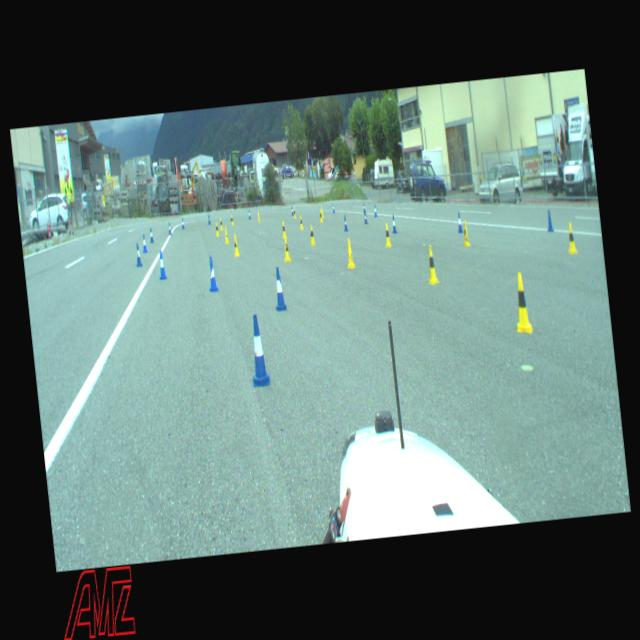blue_cone: (246, 314, 269, 384), (272, 266, 286, 310), (206, 256, 218, 292), (158, 250, 166, 278), (134, 242, 142, 266), (545, 208, 553, 231), (456, 212, 463, 232), (141, 234, 147, 252), (391, 215, 397, 232), (342, 214, 348, 230), (148, 227, 154, 242), (362, 210, 368, 223), (362, 200, 366, 213), (373, 204, 377, 216), (168, 222, 172, 234), (180, 218, 184, 228), (290, 206, 294, 216), (248, 210, 250, 220), (208, 214, 210, 224), (332, 202, 334, 212)
yellow_cone: (511, 272, 532, 332), (426, 244, 438, 284), (565, 222, 576, 254), (344, 238, 354, 268), (461, 220, 470, 246), (383, 222, 391, 246), (282, 238, 290, 262), (232, 234, 240, 256), (308, 224, 316, 244), (223, 226, 229, 244), (214, 222, 220, 236), (298, 214, 303, 228), (282, 221, 286, 238), (219, 217, 223, 230), (318, 209, 322, 222), (292, 206, 296, 218), (230, 214, 234, 225), (256, 210, 260, 221), (321, 206, 324, 218)
